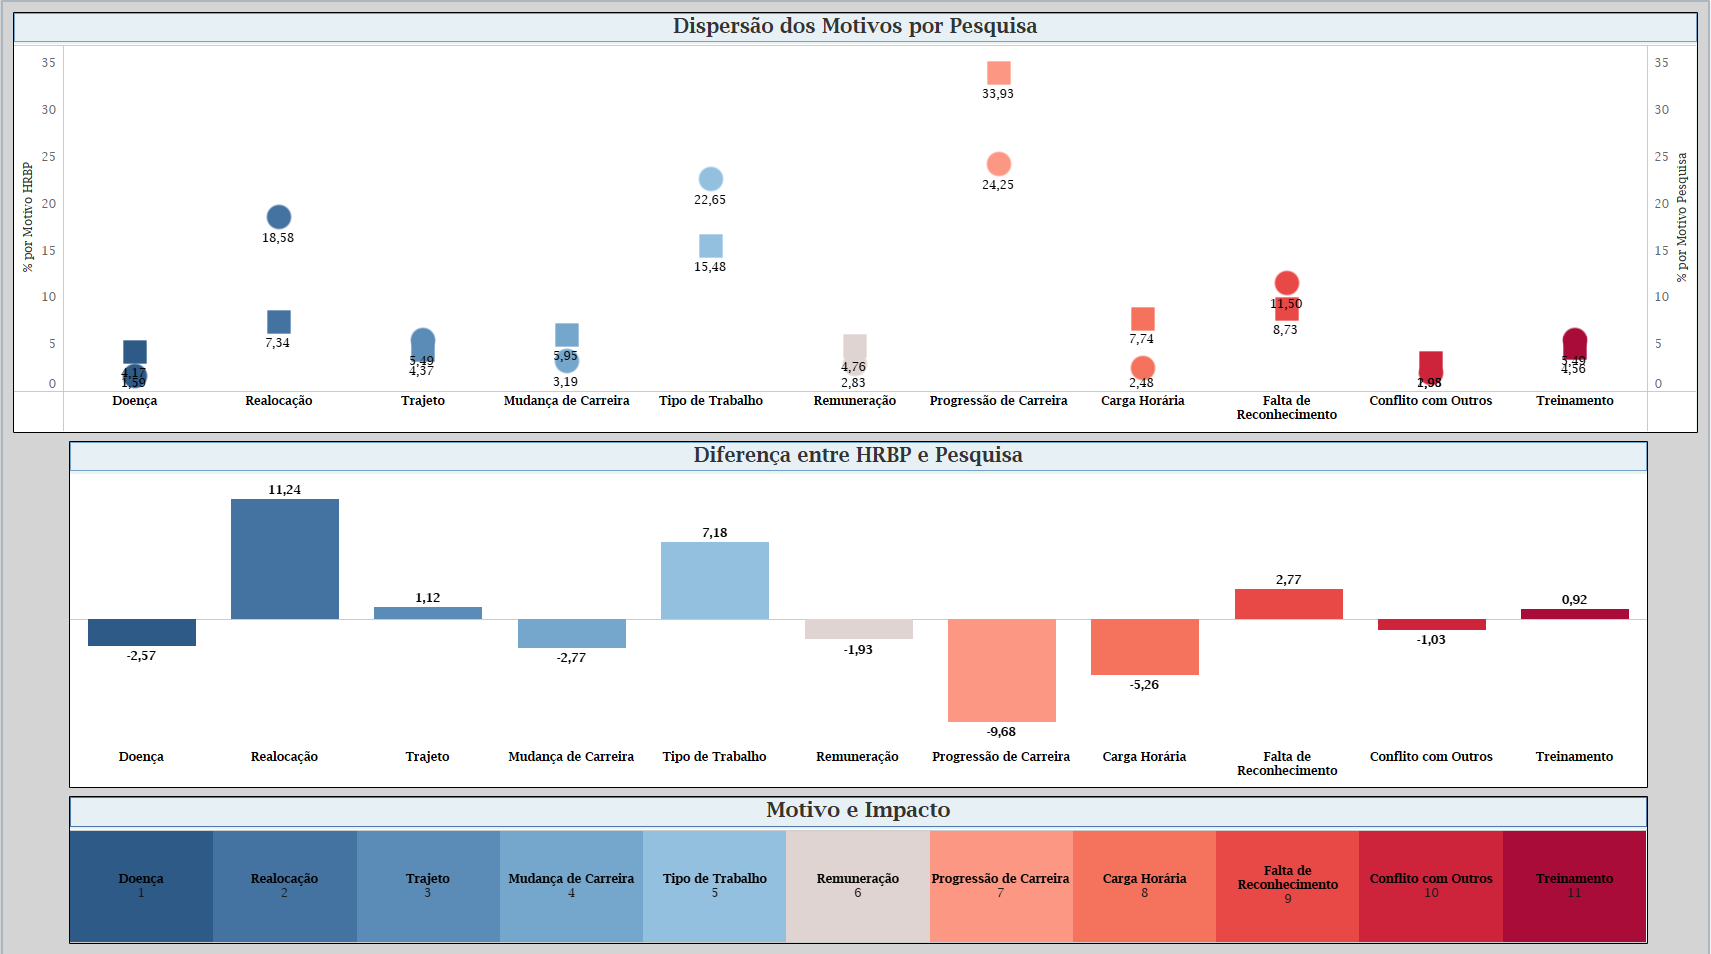

This screenshot's page, from the dashboard's own definition file:
{"tool":"tableau","page":{"name":"Discrepâncias","canvas":[1000,1000],"units":"permille","ordinal":2},"visuals":[{"type":"worksheet","title":"Motivos e Pesquisa 2","mark":"Shape","rows":["Calculation_1108448522904817664","Calculation_1108448522905571329"],"cols":["F1"],"box":[4.7,8.4,990.6,448.7]},{"type":"blank","box":[4.7,457.1,32.8,534.5]},{"type":"worksheet","title":"Diferença entre HRBP e Pesquisa","mark":"Automatic","rows":["Calculation_1108448522905755650"],"cols":["F1"],"box":[37.4,457.1,928.6,371.3]},{"type":"blank","box":[966.1,457.1,29.3,534.5]},{"type":"worksheet","title":"Motivo e Impacto","mark":"Square","cols":["F1"],"box":[37.4,828.5,928.6,163.2]}]}

Visuals, with their boxes on the dashboard's canvas, which has no fixed pixel size, in thousandths of its width and height (x1, y1, x2, y2). These are canvas units, not pixel positions in the 1711x954 screenshot, which may show the page scaled, cropped or inside an application window:
"Motivos e Pesquisa 2" worksheet (Shape marks): <bbox>5, 8, 995, 457</bbox>
blank: <bbox>5, 457, 38, 992</bbox>
"Diferença entre HRBP e Pesquisa" worksheet: <bbox>37, 457, 966, 828</bbox>
blank: <bbox>966, 457, 995, 992</bbox>
"Motivo e Impacto" worksheet (Square marks): <bbox>37, 828, 966, 992</bbox>
